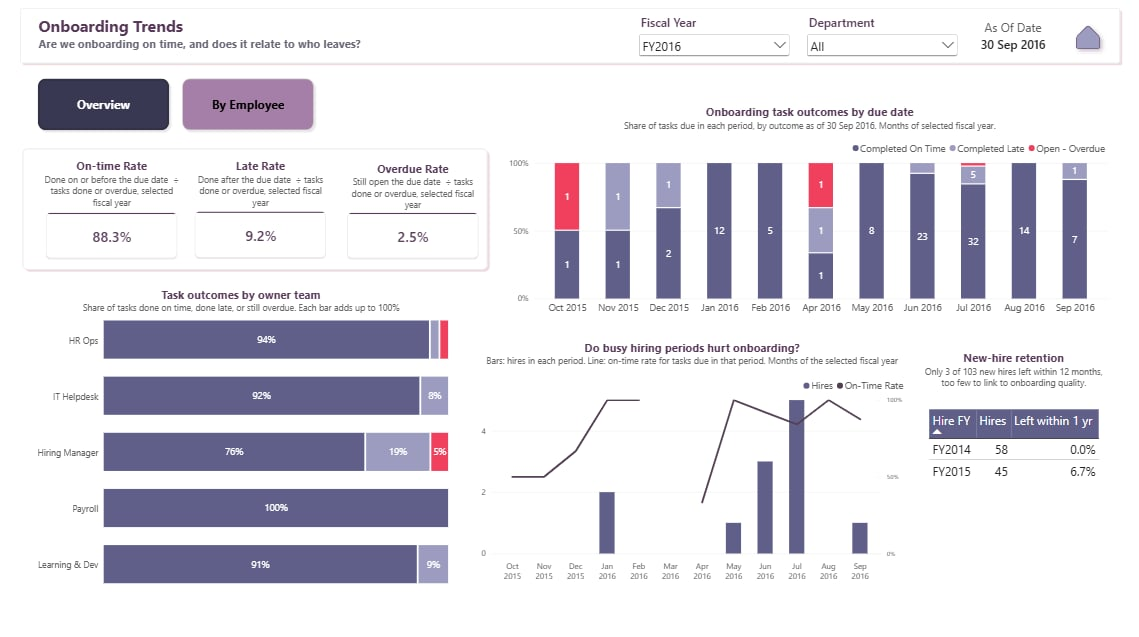

The dashboard page shown, as its layout file describes it:
{"tool":"powerbi","page":{"name":"Onboarding Trends","canvas":[1920,1080],"ordinal":4},"visuals":[{"type":"group","id":"g1","title":"Header","box":[38,18,1844.4,103],"z":0},{"type":"shape","title":"Title Shape","box":[38,18,1844.4,103],"z":0,"group":"g1"},{"type":"shape","title":"Workforce KPI Shape","box":[42,251.2,786,212.8],"z":0,"group":"g3"},{"type":"lineClusteredColumnComboChart","title":"Do busy hiring periods hurt onboarding?","fields":{"Category":["DimDate.Fiscal Calendar.Fiscal Year","DimDate.Fiscal Calendar.Fiscal Quarter","DimDate.Fiscal Calendar.Month"],"Y":["_Measures.Hires"],"Y2":["_Measures.On-Time Rate"]},"box":[789.7,620.1,747.1,375.7],"z":0,"group":"g2"},{"type":"textbox","title":"Title","box":[38,18,1834.4,100],"z":1000,"group":"g1"},{"type":"cardVisual","title":"Overdue rate card","fields":{"Data":["_Measures.Overdue Rate"]},"box":[585.1,361.3,224.3,81.6],"z":1000,"group":"g3"},{"type":"hundredPercentStackedBarChart","title":"Task outcomes by owner team","fields":{"Category":["OwnerTeams.OwnerTeam"],"Series":["TaskOutcomes.TaskOutcome"],"Y":["_Measures.Total Tasks"]},"box":[47.3,518,725,481.7],"z":1000,"group":"g2"},{"type":"cardVisual","title":"AsOf Card","fields":{"Data":["_Measures.As Of Date"]},"box":[1605,33,185.7,72.9],"z":2000,"group":"g1"},{"type":"hundredPercentStackedColumnChart","title":"Onboarding task outcomes by due date","fields":{"Category":["DimDate.Fiscal Calendar.Fiscal Year","DimDate.Fiscal Calendar.Fiscal Quarter","DimDate.Fiscal Calendar.Month"],"Series":["TaskOutcomes.TaskOutcome"],"Y":["_Measures.Total Tasks"]},"box":[841.9,225.5,1031.2,328.8],"z":2000,"group":"g2"},{"type":"cardVisual","title":"Late rate card","fields":{"Data":["_Measures.Late Rate"]},"box":[332,359.9,224.6,82.3],"z":2000,"group":"g3"},{"type":"group","id":"g2","title":"grp_Overview","box":[47.3,33,1825.8,966.7],"z":3000},{"type":"cardVisual","title":"On-time rate card","fields":{"Data":["_Measures.On-Time Rate"]},"box":[83.3,360.8,224.6,81.6],"z":3000,"group":"g3"},{"type":"tableEx","title":"New-hire retention","fields":{"Values":["DimDate.Fiscal Year","_Measures.Hires","_Measures.First-Year Attrition Rate"]},"box":[1542,677,316,168],"z":3000,"group":"g2"},{"type":"slicer","title":"FY Slicer","fields":{"Values":["DimDate.Fiscal Year"]},"box":[1070,33,261,73],"z":4000,"group":"g2"},{"type":"group","id":"g3","title":"KPI cards Overview","box":[42,251.2,786,212.8],"z":4000},{"type":"textbox","title":"On-time Rate Text box","box":[83.1,273.5,224.6,87.8],"z":4000,"group":"g3"},{"type":"slicer","title":"Dept Slicer","fields":{"Values":["Departments.Department"]},"box":[1350,33,261,73],"z":5000,"group":"g2"},{"type":"bookmarkNavigator","box":[65,133.3,475.6,100],"z":5000},{"type":"textbox","title":"Late Rate Text box","box":[332,273.5,224.6,87.8],"z":5000,"group":"g3"},{"type":"actionButton","title":"Home Button","box":[1791.4,40,62.9,62.9],"z":6000},{"type":"textbox","title":"Overdue Rate Text box","box":[585.6,276.5,224.3,88],"z":6000,"group":"g3"},{"type":"textbox","title":"Task outcomes by owner team Text box","box":[125,486.7,571.7,53.3],"z":6000,"group":"g2"},{"type":"textbox","title":"Onboarding task Text box","box":[1032.5,183.8,651.2,61.2],"z":7000,"group":"g2"},{"type":"textbox","title":"Line chart Text box","box":[811.4,575.7,702.9,61.4],"z":8000,"group":"g2"},{"type":"textbox","title":"New hire retention Text box","box":[1541.6,593.3,315,83.3],"z":9000,"group":"g2"}]}

Visuals, with their boxes in screenshot pixels (x1, y1, x2, y2), scaled from the page's 1920x1080 canvas onto the 1139x637 screenshot:
"Header" group: locate(23, 11, 1117, 71)
"Title Shape" shape: locate(23, 11, 1117, 71)
"Workforce KPI Shape" shape: locate(25, 148, 491, 274)
"Do busy hiring periods hurt onboarding?" lineClusteredColumnComboChart: locate(468, 366, 912, 587)
"Title" textbox: locate(23, 11, 1111, 70)
"Overdue rate card" cardVisual: locate(347, 213, 480, 261)
"Task outcomes by owner team" hundredPercentStackedBarChart: locate(28, 306, 458, 590)
"AsOf Card" cardVisual: locate(952, 19, 1062, 62)
"Onboarding task outcomes by due date" hundredPercentStackedColumnChart: locate(499, 133, 1111, 327)
"Late rate card" cardVisual: locate(197, 212, 330, 261)
"grp_Overview" group: locate(28, 19, 1111, 590)
"On-time rate card" cardVisual: locate(49, 213, 183, 261)
"New-hire retention" tableEx: locate(915, 399, 1102, 498)
"FY Slicer" slicer: locate(635, 19, 790, 63)
"KPI cards Overview" group: locate(25, 148, 491, 274)
"On-time Rate Text box" textbox: locate(49, 161, 183, 213)
"Dept Slicer" slicer: locate(801, 19, 956, 63)
bookmarkNavigator: locate(39, 79, 321, 138)
"Late Rate Text box" textbox: locate(197, 161, 330, 213)
"Home Button" actionButton: locate(1063, 24, 1100, 61)
"Overdue Rate Text box" textbox: locate(347, 163, 480, 215)
"Task outcomes by owner team Text box" textbox: locate(74, 287, 413, 318)
"Onboarding task Text box" textbox: locate(613, 108, 999, 145)
"Line chart Text box" textbox: locate(481, 340, 898, 376)
"New hire retention Text box" textbox: locate(915, 350, 1101, 399)
